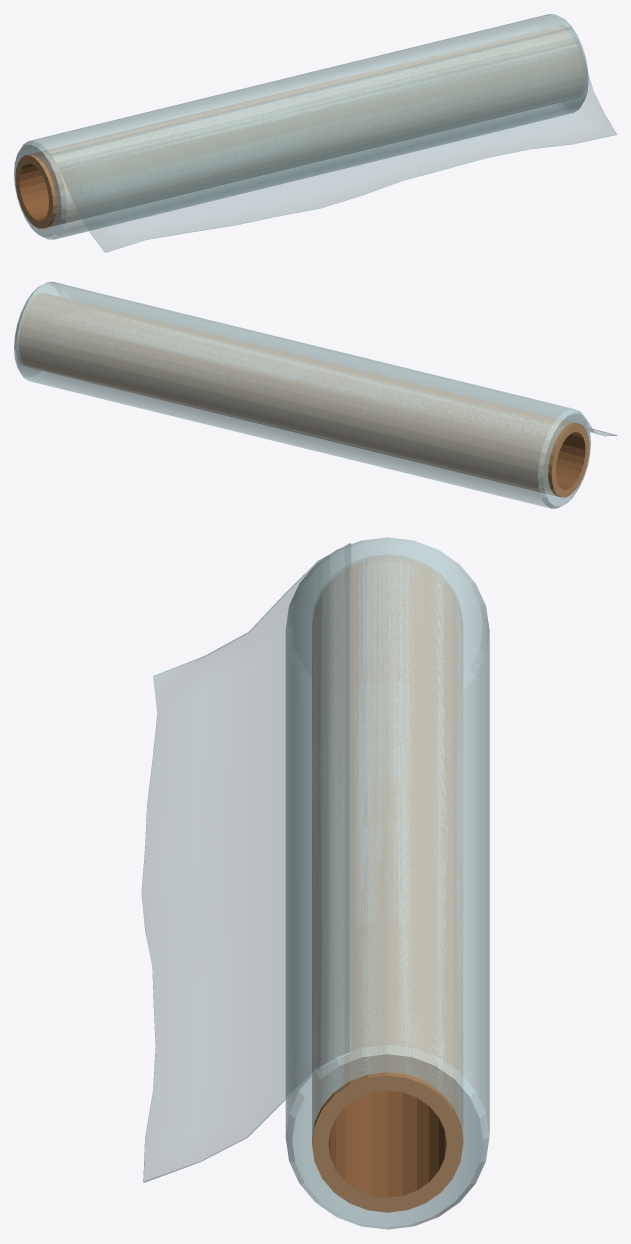
File: ClingFilm_Roll.fbx
The picture shows the model from 3 angles, top to bottom: view 1: azimuth 30°, elevation 25°; view 2: azimuth 150°, elevation 25°; view 3: azimuth 270°, elevation 25°; orthographic projection. The views are drawn at different scales.
Visible parts, largest first — view 1: Wound layers of film, Pulled film edge, Cardboard tube; view 2: Wound layers of film, Cardboard tube, Pulled film edge; view 3: Wound layers of film, Pulled film edge, Cardboard tube.
Boxes of the visible parts, box(x1,y1,x2,y2) form: Wound layers of film: box(14, 14, 588, 239); Pulled film edge: box(49, 27, 616, 252); Cardboard tube: box(15, 26, 583, 228); Wound layers of film: box(14, 282, 590, 508); Cardboard tube: box(19, 294, 589, 497); Pulled film edge: box(50, 281, 616, 436); Wound layers of film: box(285, 537, 489, 1229); Pulled film edge: box(141, 543, 351, 1182); Cardboard tube: box(312, 557, 463, 1212).
Size of the model in its own units: 0.3 by 0.0496 by 0.0847.
